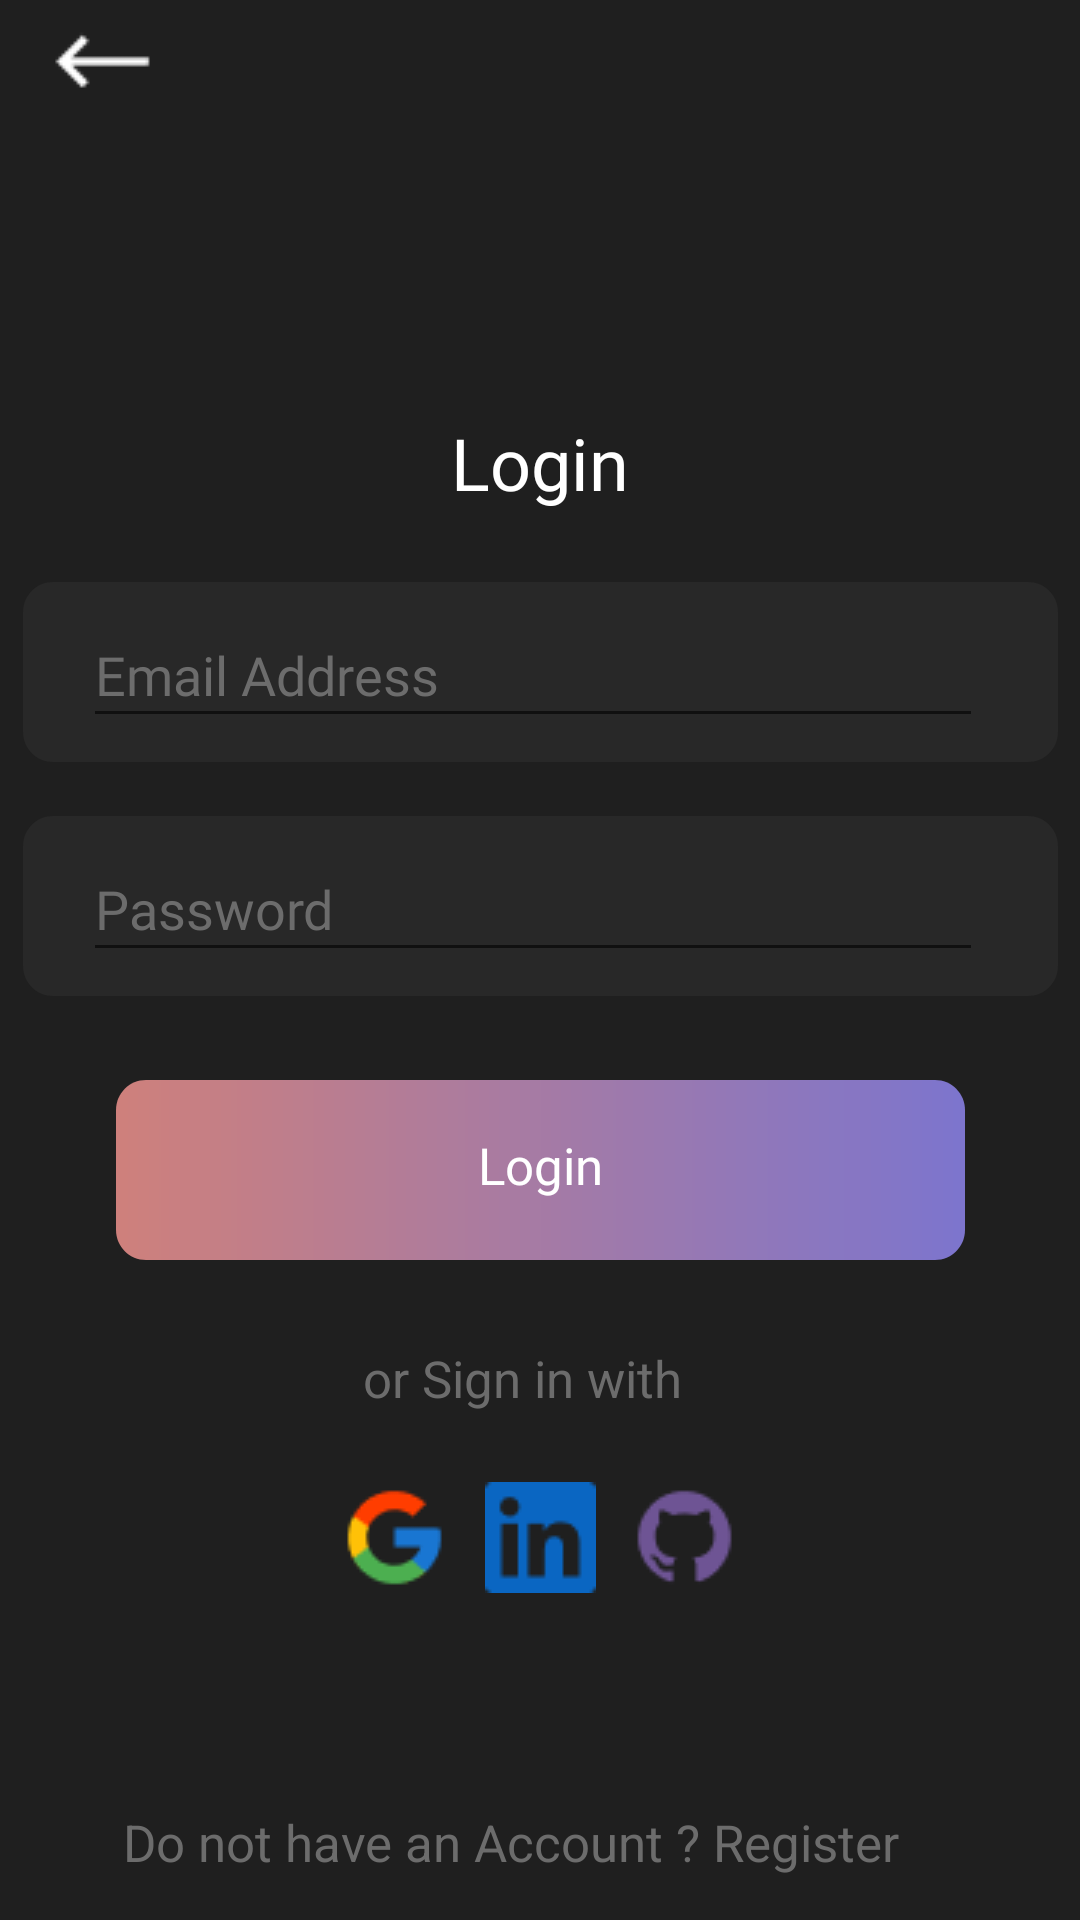

Icon bounding boxes for this 1080x1920 phone screenshot, format (x1, y1, x2, y2):
back: (55, 35, 150, 88)
